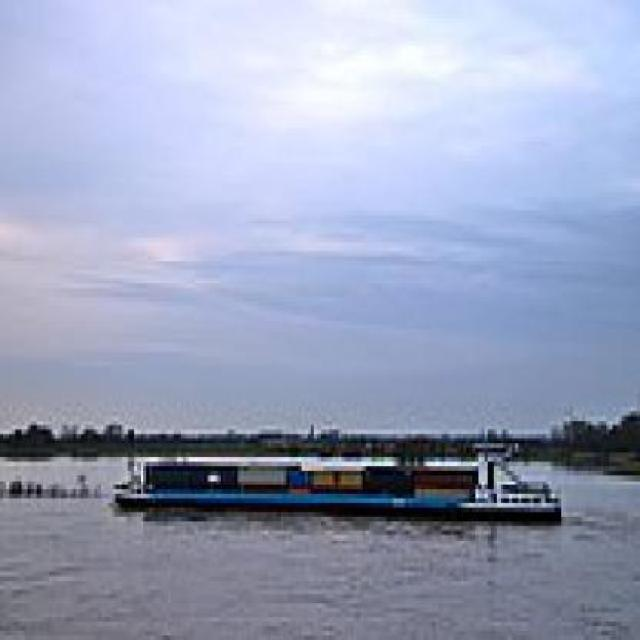container: (108, 421, 568, 541)
